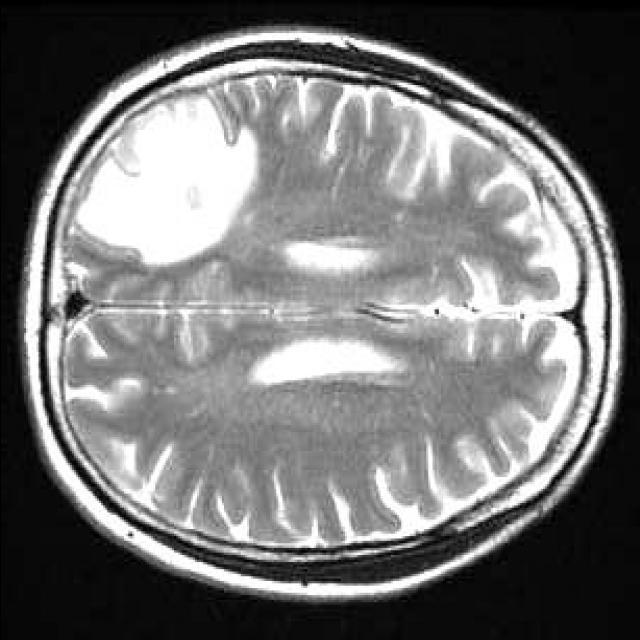tumor: (67, 92, 256, 267)
